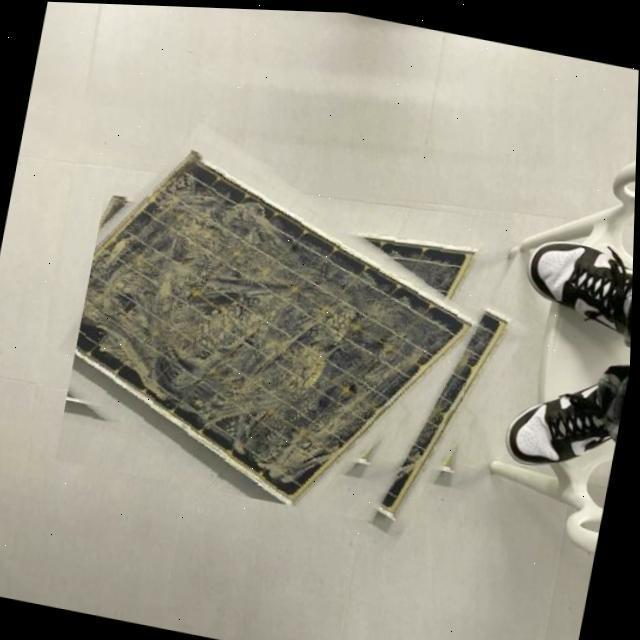Anomaly Solar Panel: (73, 152, 469, 505)
Surface Contaminant: (83, 168, 462, 486)
